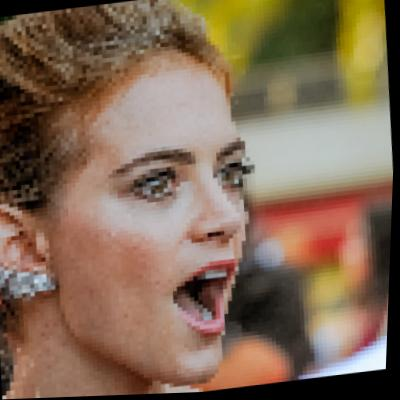surprise: (23, 26, 277, 399)
